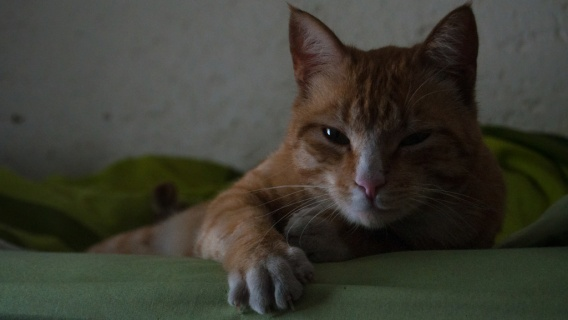Cat: (76, 0, 515, 313)
